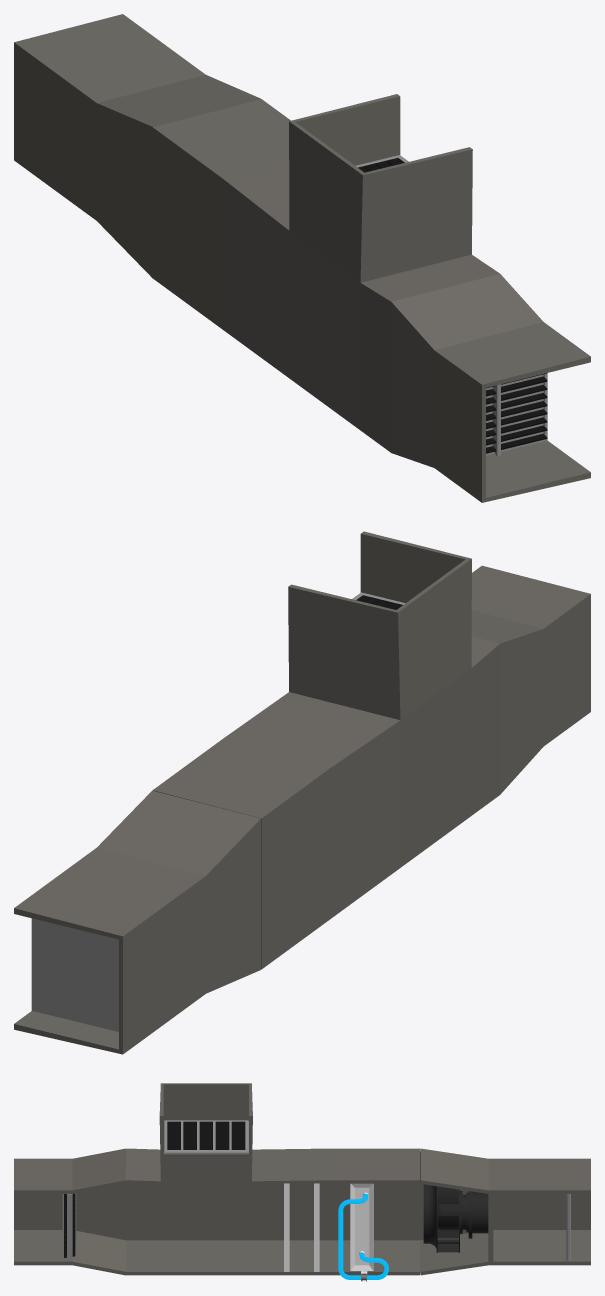
Rendered from hvac_v2_static.glb.
The picture shows the model from 3 angles, top to bottom: view 1: azimuth 30°, elevation 25°; view 2: azimuth 150°, elevation 25°; view 3: azimuth 270°, elevation 25°; orthographic projection. The views are drawn at different scales.
Visible parts, largest first — view 1: Cube.015, Cube.012, Cube.011; view 2: Cube.015, Cube.017; view 3: Cube.015, Cube.013, Body68.001, Body68, Cube.004, Cube.002, Torus.001, Cube.011, Cube.003, Cube.009, Cube.012, Cube.001 (+1 smaller).
Part boxes in pixels (x1,y1,x2,y2): Cube.015: (14, 14, 590, 502); Cube.012: (486, 373, 547, 453); Cube.011: (486, 373, 547, 456); Cube.015: (14, 531, 590, 1054); Cube.017: (31, 918, 118, 1031); Cube.015: (14, 1083, 590, 1275); Cube.013: (163, 1120, 248, 1155); Body68.001: (423, 1184, 459, 1252); Body68: (437, 1191, 488, 1238); Cube.004: (355, 1187, 369, 1265); Cube.002: (350, 1183, 373, 1270); Torus.001: (338, 1199, 388, 1279); Cube.011: (62, 1193, 76, 1261); Cube.003: (284, 1183, 289, 1271); Cube.009: (314, 1183, 319, 1271); Cube.012: (64, 1193, 75, 1257); Cube.001: (488, 1194, 493, 1261).
Size of the model in its own units: 2.6 by 4.7 by 15.43.
15 materials, 4 textured.
